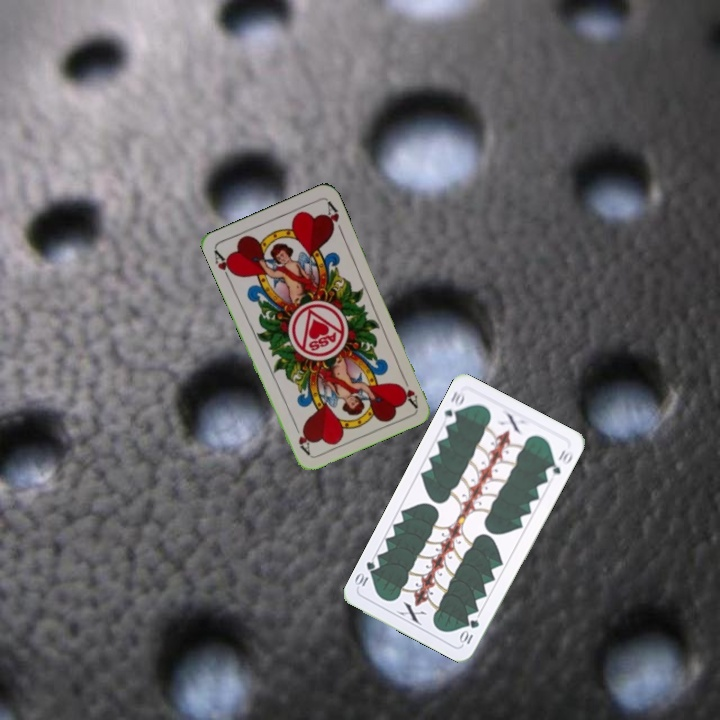G10: (440, 387, 468, 427), (456, 615, 482, 647)
HA: (210, 246, 238, 284), (396, 370, 421, 409)
